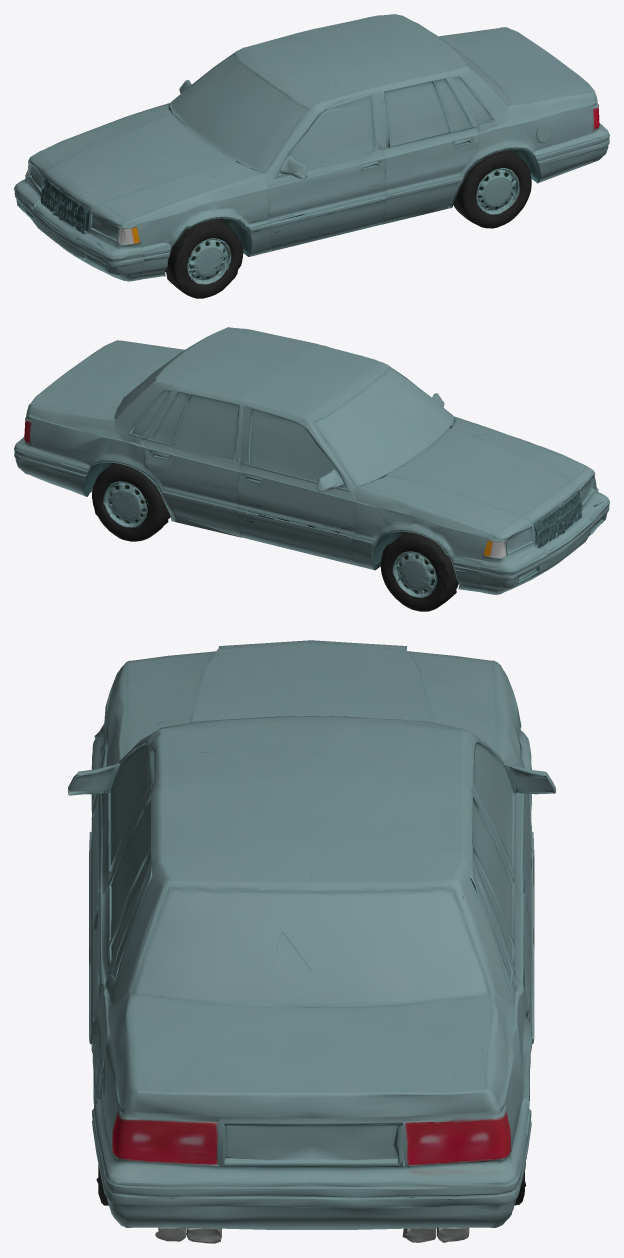
File: sedan-01-textured.glb
3 views of the same model, one above another, from view 1: azimuth 30°, elevation 25°; view 2: azimuth 150°, elevation 25°; view 3: azimuth 270°, elevation 25° (orthographic). The views are drawn at different scales.
Parts seen in each view (by area): view 1: geometry_0; view 2: geometry_0; view 3: geometry_0.
Part boxes in pixels (bbox=[...]): geometry_0: bbox=[14, 14, 609, 298]; geometry_0: bbox=[14, 327, 609, 611]; geometry_0: bbox=[68, 640, 555, 1243].
Bounding box in the file's own units: 0.9531 × 0.2847 × 0.3926.
Materials: 1 (1 with a texture image).
